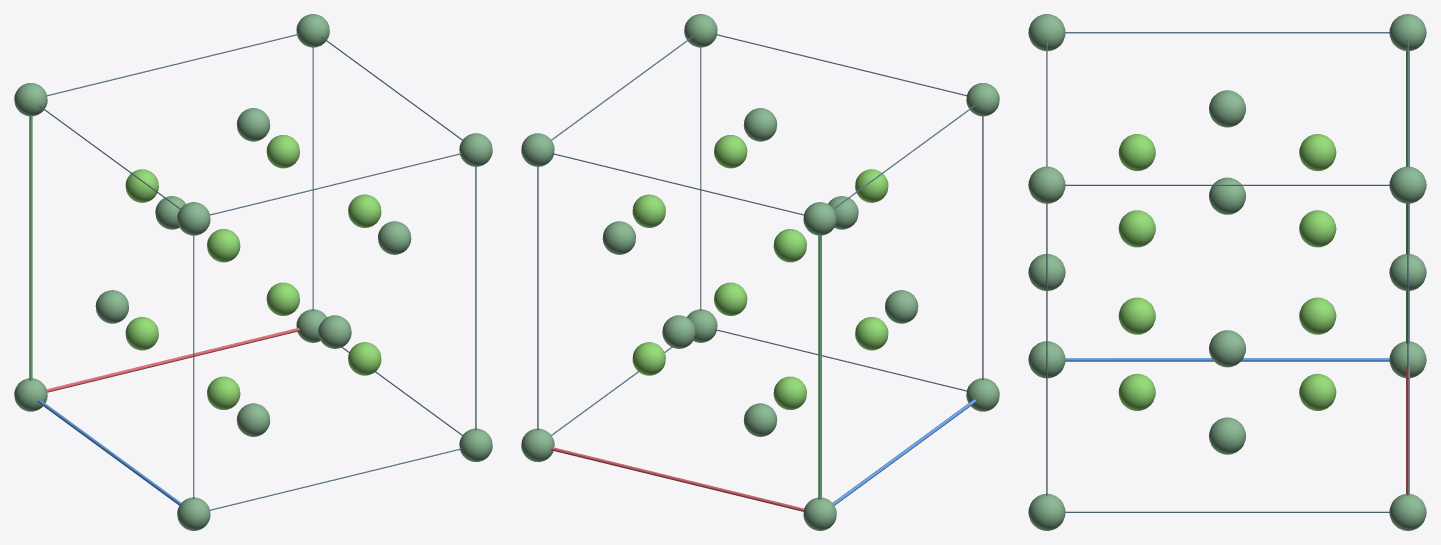
Rendered from chat-frankdicksonite.glb.
3 views of the same model, side by side, from view 1: azimuth 30°, elevation 25°; view 2: azimuth 150°, elevation 25°; view 3: azimuth 270°, elevation 25° (orthographic). The views are drawn at different scales.
Visible parts, largest first — view 1: Ba · Ba · 1 (×14), F · F · 1 (×8), Ô mạng và các trục a, b, c; view 2: Ba · Ba · 1 (×14), F · F · 1 (×8), Ô mạng và các trục a, b, c; view 3: Ba · Ba · 1 (×14), F · F · 1 (×8), Ô mạng và các trục a, b, c.
Part boxes in pixels (bbox=[...]): Ba · Ba · 1 (×14): bbox=[14, 14, 492, 530]; F · F · 1 (×8): bbox=[125, 135, 381, 409]; Ô mạng và các trục a, b, c: bbox=[29, 33, 476, 510]; Ba · Ba · 1 (×14): bbox=[521, 14, 999, 530]; F · F · 1 (×8): bbox=[632, 135, 888, 409]; Ô mạng và các trục a, b, c: bbox=[537, 33, 983, 511]; Ba · Ba · 1 (×14): bbox=[1028, 14, 1426, 530]; F · F · 1 (×8): bbox=[1118, 134, 1336, 410]; Ô mạng và các trục a, b, c: bbox=[1046, 32, 1409, 512].
Bounding box in the file's own units: 6.84 × 6.84 × 6.84.
